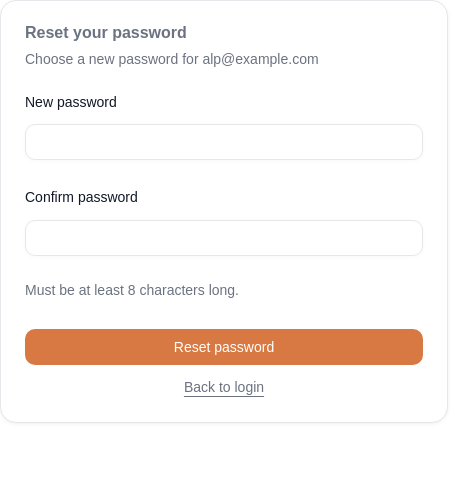
Test: ResetPasswordForm › surfaces the server's rejection of a bad or expired token
Type "N3w-Password!" into the password field labelled "New password" at (224, 142), box [25,124,423,160]
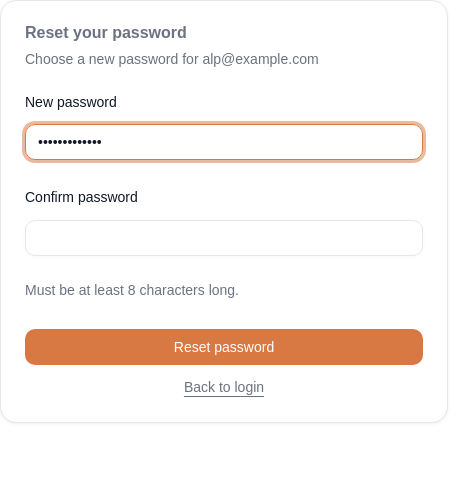
Type "N3w-Password!" into the password field labelled "Confirm password" at (224, 238), box [25,220,423,256]
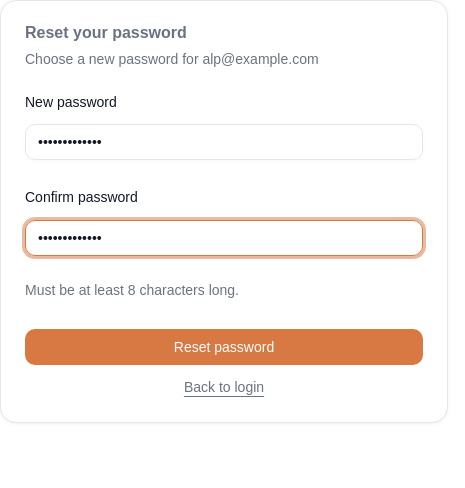
Click the button "Reset password" at (224, 346), box [25,328,423,364]
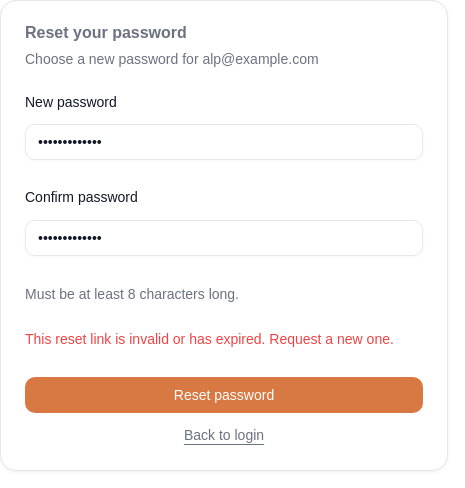
Expected: the text "This reset link is invalid or has expired" is shown, [25,330,394,346]
